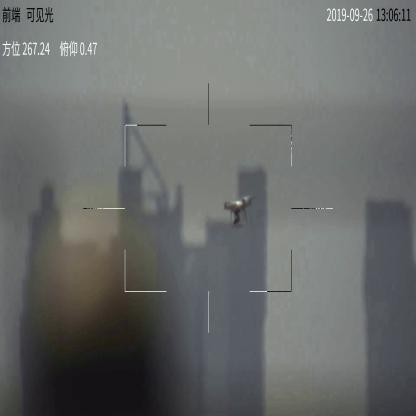uav: (219, 195, 252, 226)
